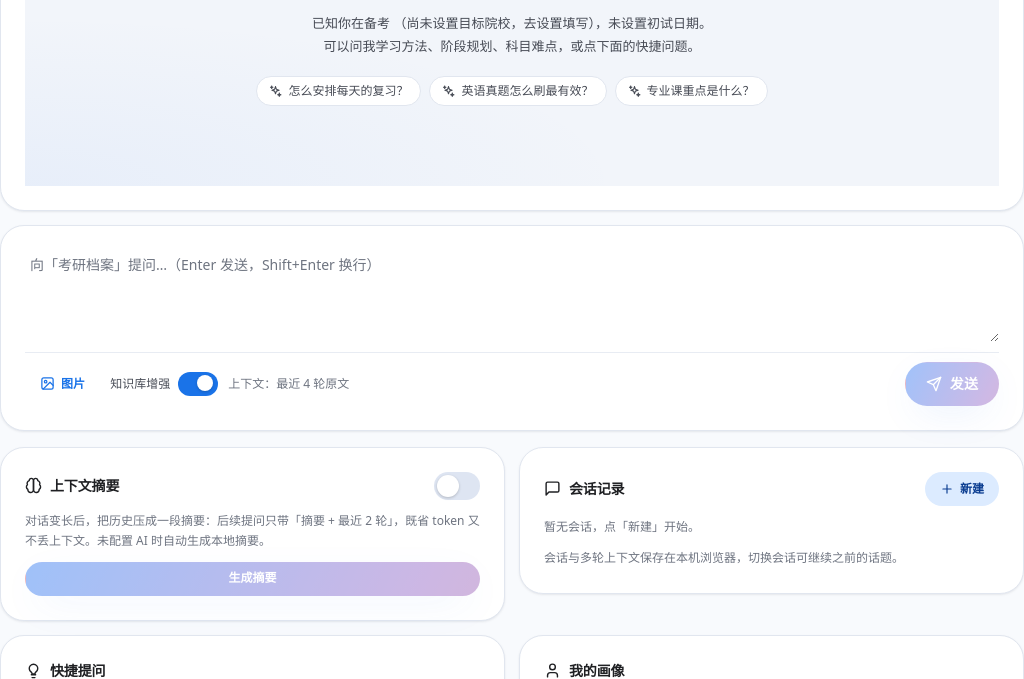
it: AI 助手失败态必须可见（P0-5） › ① SSE error 事件：出现「AI 服务报错」气泡 + 重试按钮
(page scrolled)
Type "怎么安排每天的复习？" into the text box with placeholder "向「考研档案」提问…（Enter 发送，Shift+Enter 换行）" at {"x": 512, "y": 296}, box x1=25 y1=250 x2=999 y2=342
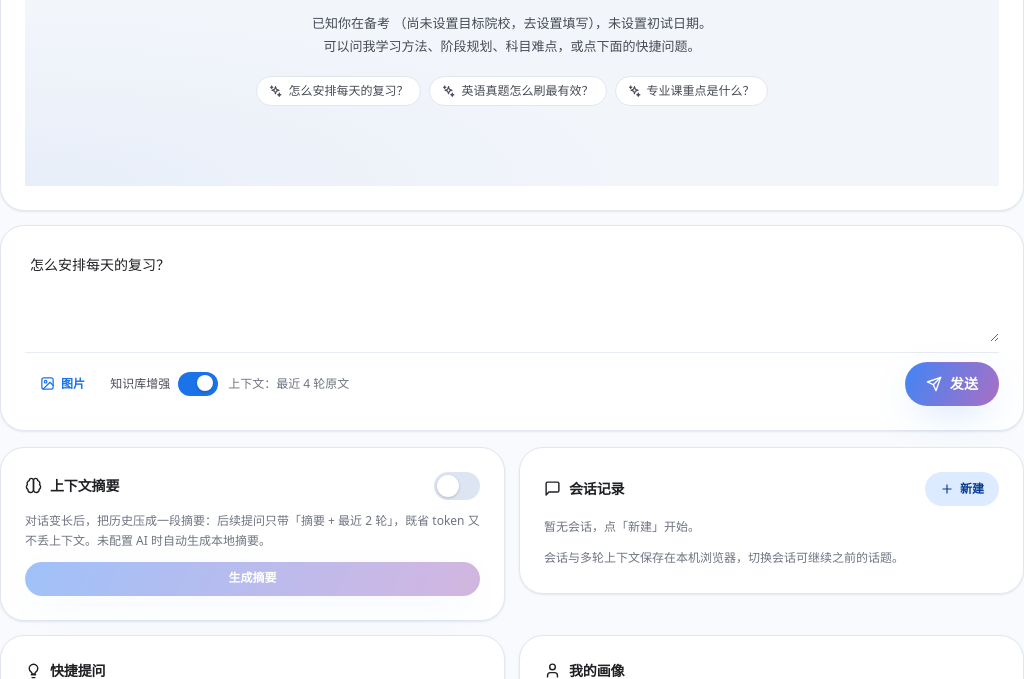
Press Enter in the text box named "向 AI 助手提问", box x1=25 y1=250 x2=999 y2=342
(page scrolled)
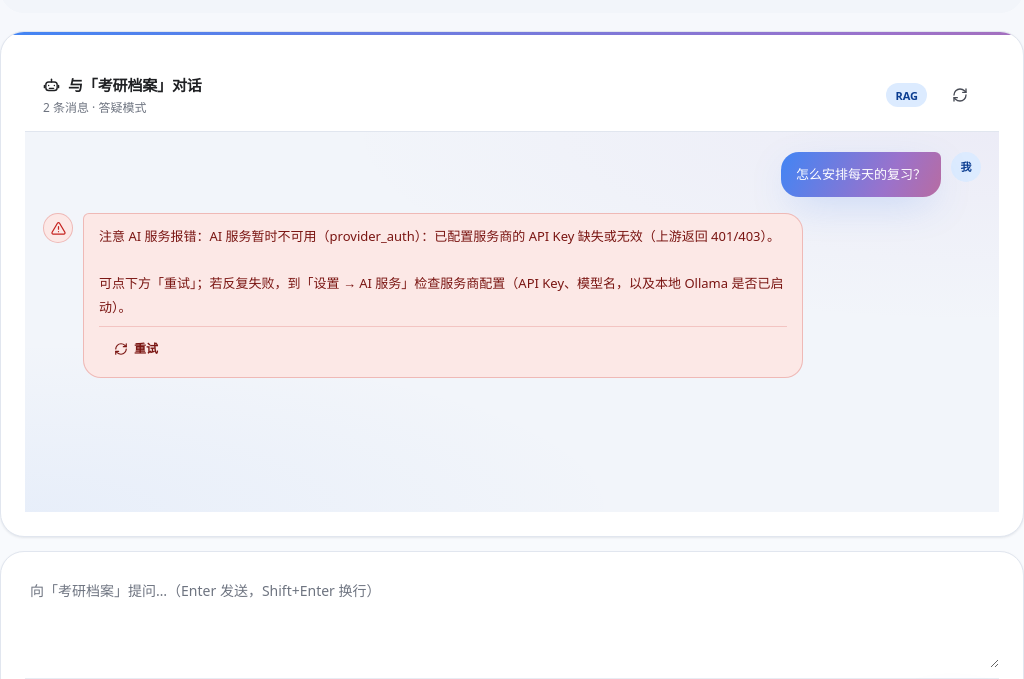
expect the 2nd element with class "is-error" is shown: met, box x1=83 y1=213 x2=803 y2=378
expect the element with class "is-error" shows "AI 服务报错": met, box x1=99 y1=227 x2=783 y2=316
expect the element with class "is-error" shows "provider_auth": met, box x1=99 y1=227 x2=783 y2=316
